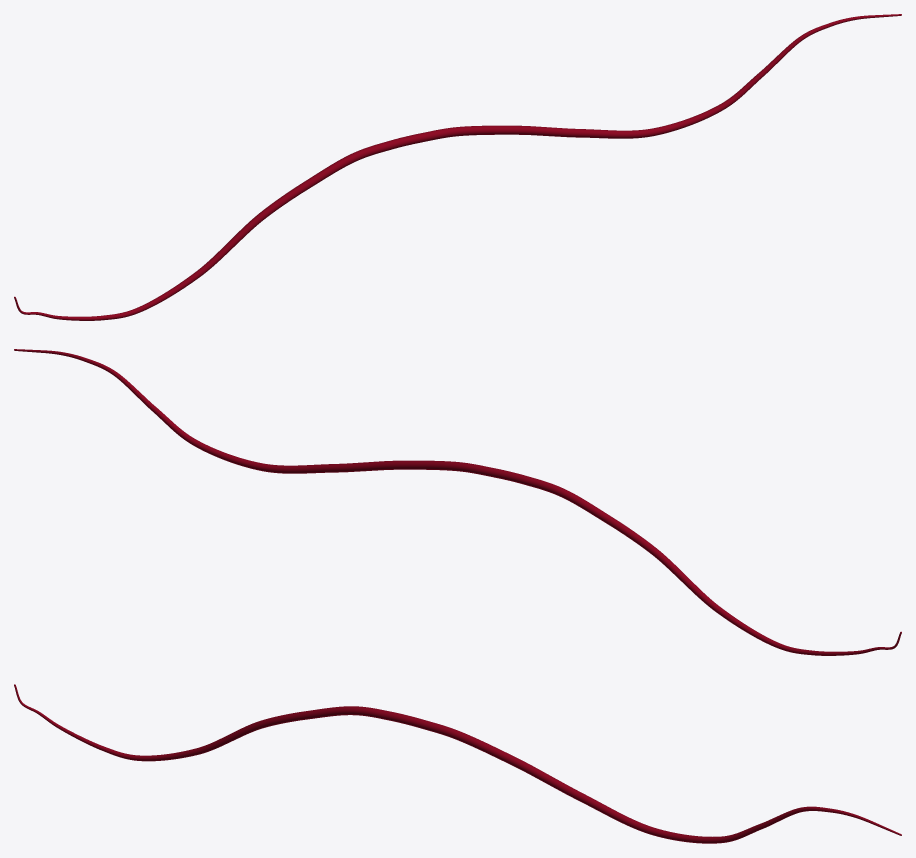
The model's file is Vessel01.fbx.
3 renders of one model, top to bottom at view 1: azimuth 30°, elevation 25°; view 2: azimuth 150°, elevation 25°; view 3: azimuth 330°, elevation 25°, orthographic.
Visible parts, largest first — view 1: root; view 2: root; view 3: root.
Boxes of the visible parts, box(x1,y1,x2,y2) form: root: box(14, 14, 901, 320); root: box(14, 349, 901, 655); root: box(14, 684, 901, 843).
Size of the model in its own units: 8.29 by 1.09 by 0.0742.
